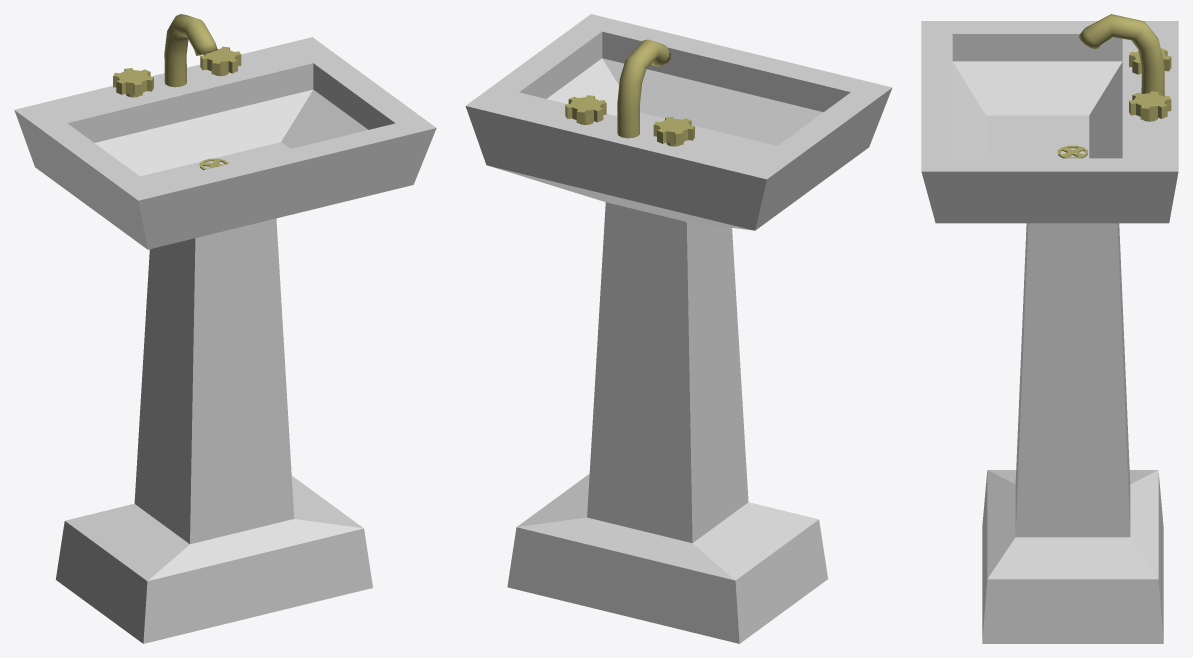
The model's file is sink.fbx.
3 renders of one model, left to right at view 1: azimuth 30°, elevation 25°; view 2: azimuth 150°, elevation 25°; view 3: azimuth 270°, elevation 25°, orthographic. The views are drawn at different scales.
Visible parts, largest first — view 1: sink; view 2: sink; view 3: sink.
Part boxes in pixels (bbox=[...]): sink: bbox=[14, 14, 436, 643]; sink: bbox=[465, 14, 892, 643]; sink: bbox=[921, 14, 1178, 643].
Bounding box in the file's own units: 260 × 459 × 187.
